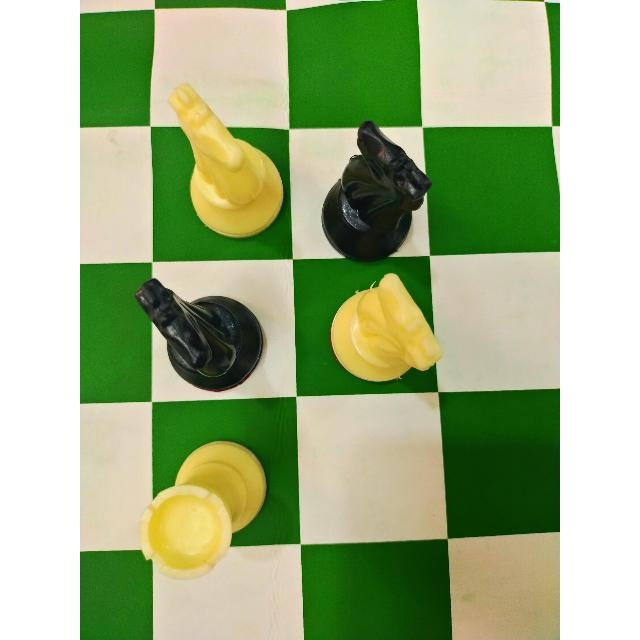black-knight: (119, 269, 268, 393), (313, 121, 433, 266)
white-knight: (159, 80, 285, 240), (323, 274, 439, 383)
white-rook: (138, 432, 272, 573)
